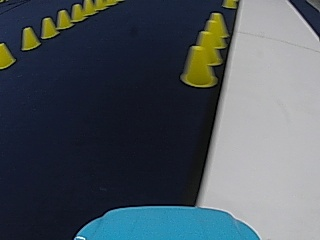cone: (179, 43, 216, 87), (194, 30, 220, 67), (203, 12, 229, 47), (195, 30, 217, 52), (20, 26, 39, 50), (0, 42, 15, 68), (40, 17, 57, 38), (56, 9, 71, 29), (70, 3, 83, 21), (82, 0, 93, 15)
